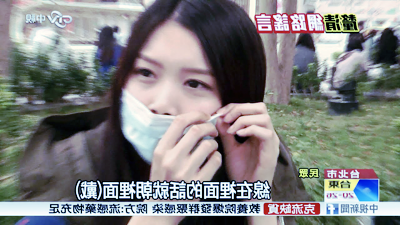mask_weared_incorrect: (117, 47, 221, 169)
